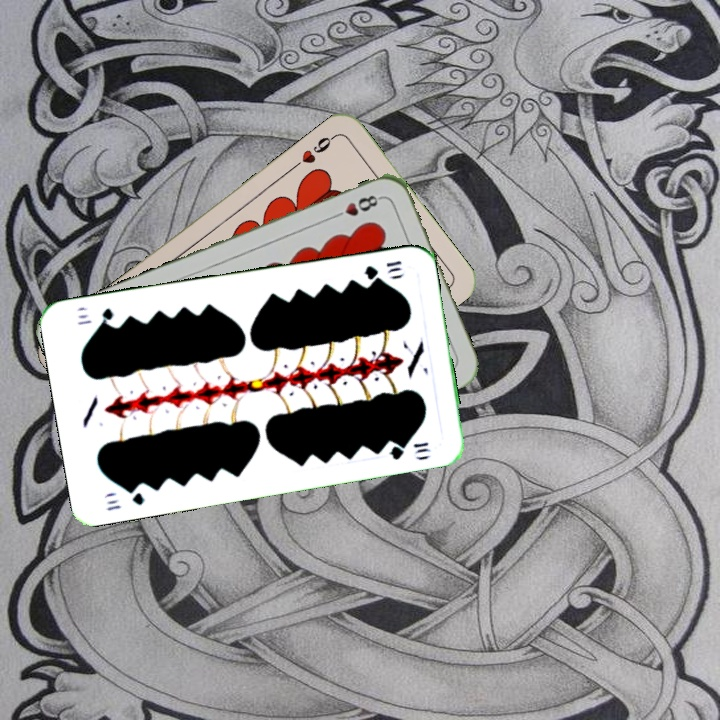G10: (101, 483, 148, 513), (360, 256, 404, 282)
H8: (328, 191, 384, 222)
H9: (288, 131, 339, 172)
